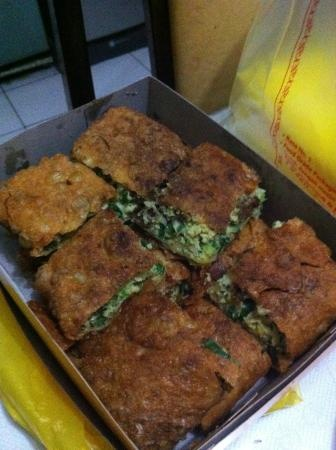martabak: (0, 104, 336, 449)
